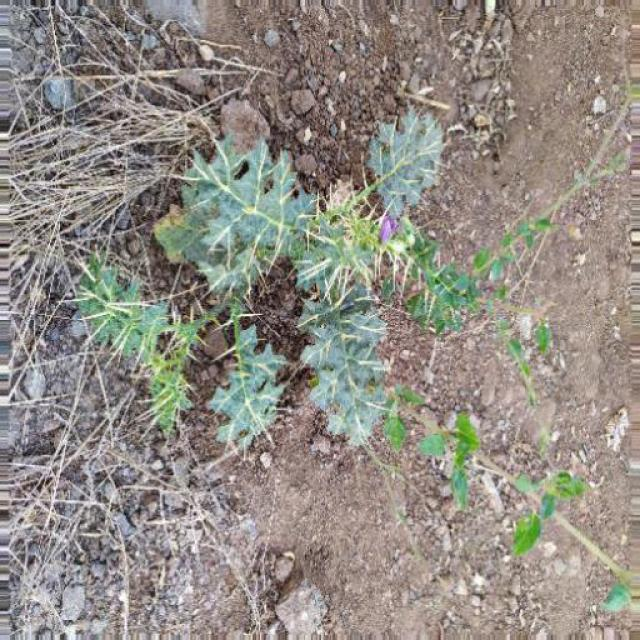weed: (79, 55, 586, 624)
